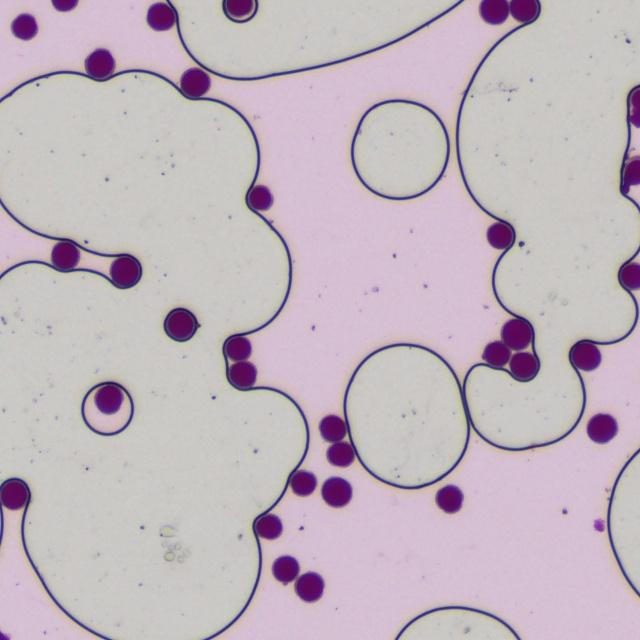viable: (110, 255, 141, 287), (165, 309, 196, 340), (502, 318, 531, 349), (570, 341, 600, 370), (94, 384, 123, 414), (85, 49, 114, 79), (322, 477, 351, 507), (587, 414, 616, 443), (51, 241, 79, 270), (295, 572, 323, 601), (181, 68, 209, 97), (2, 478, 28, 509), (510, 352, 538, 380), (229, 361, 256, 388), (436, 485, 463, 512), (147, 3, 174, 30), (272, 556, 299, 583), (319, 415, 345, 441), (487, 223, 513, 249), (483, 341, 510, 366), (11, 14, 36, 39), (256, 514, 282, 538), (327, 442, 353, 466), (480, 0, 506, 24), (291, 471, 316, 495), (225, 336, 251, 359), (510, 0, 537, 22), (248, 185, 272, 208), (620, 263, 639, 289), (225, 0, 253, 16), (624, 158, 639, 184), (52, 0, 77, 11), (629, 109, 639, 126), (631, 90, 639, 110)
